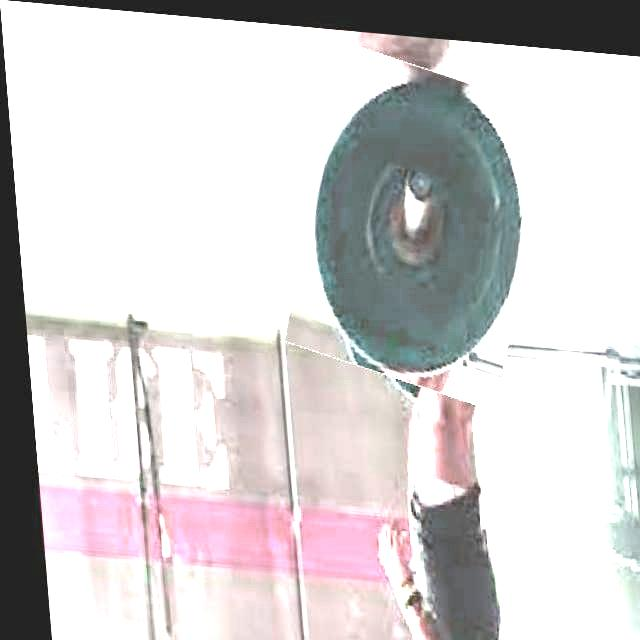barbell: (278, 40, 550, 397)
